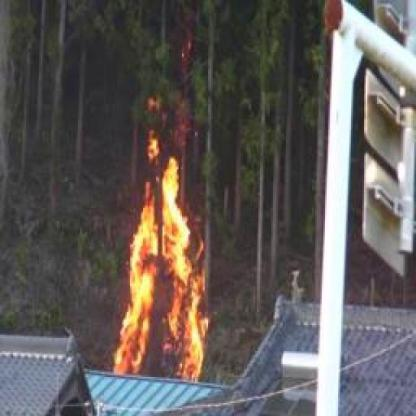fire: (103, 95, 214, 374)
